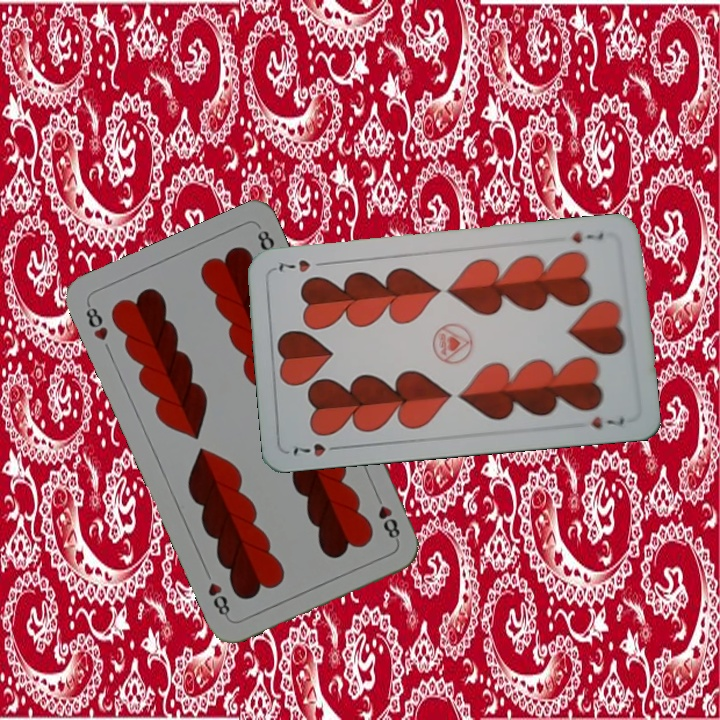H7: (289, 439, 346, 459), (568, 228, 606, 246)
H8: (371, 489, 403, 545), (81, 299, 111, 343)
